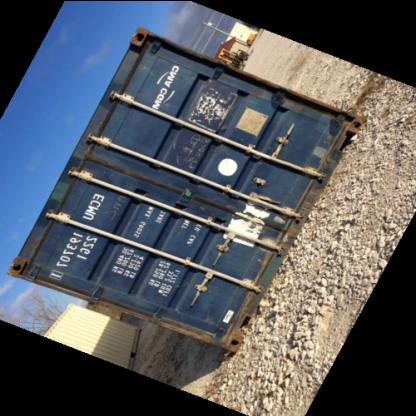Damage: (226, 192, 270, 244), (192, 78, 232, 128), (166, 128, 206, 174), (197, 298, 234, 340), (319, 111, 346, 145), (9, 256, 33, 278), (132, 26, 148, 55)
